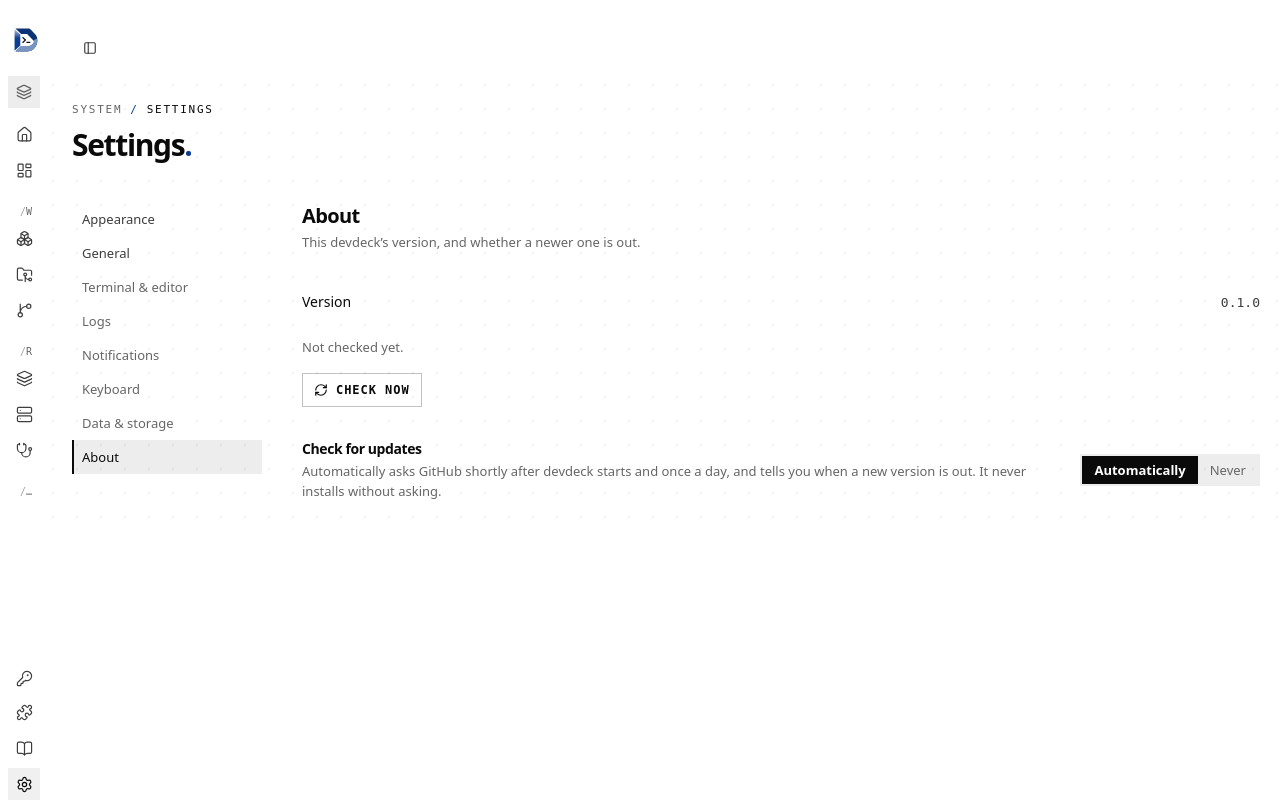
it: Settings → About: checking by itself › turns the daily check off and on
Click the button "Never": (1228, 470) [1198,456,1258,484]
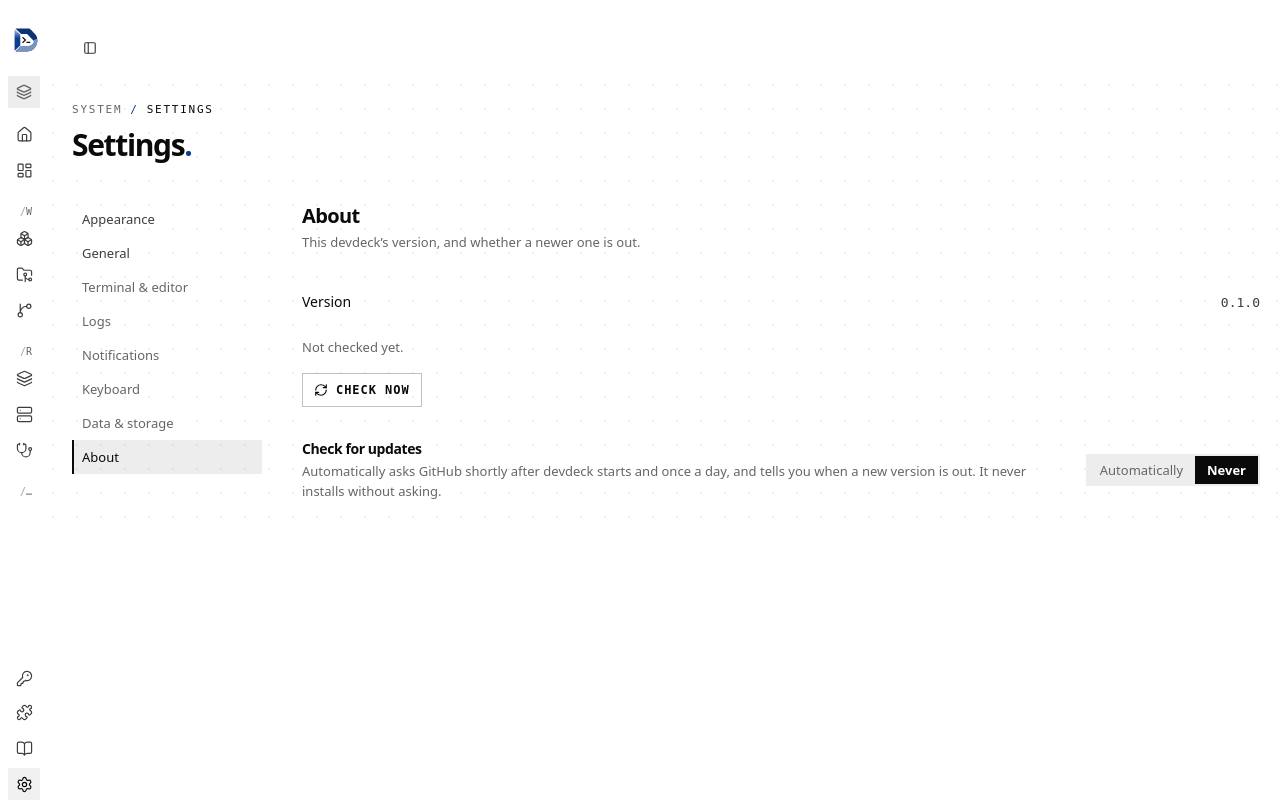
Result: the button "Never" is pressed at [1195,456,1258,484]
